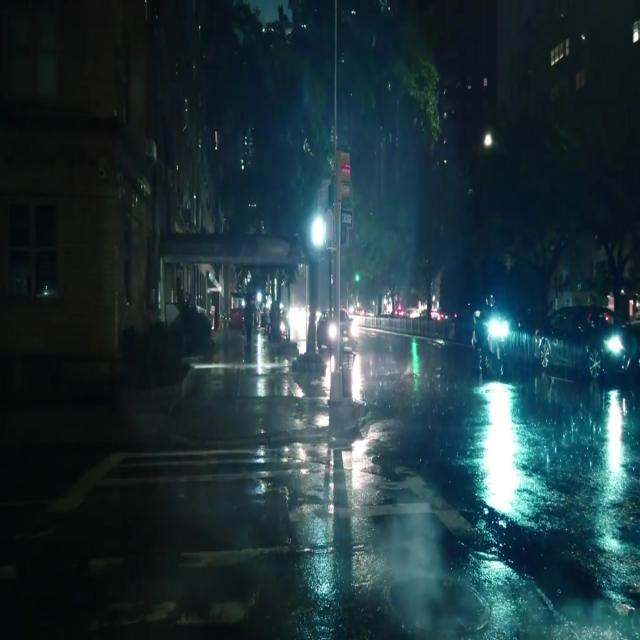Car: (531, 303, 636, 377)
